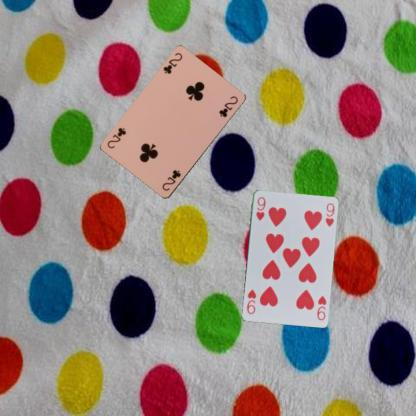2c: (160, 50, 184, 76), (159, 168, 182, 192)
9h: (253, 194, 267, 222), (314, 293, 328, 321)
